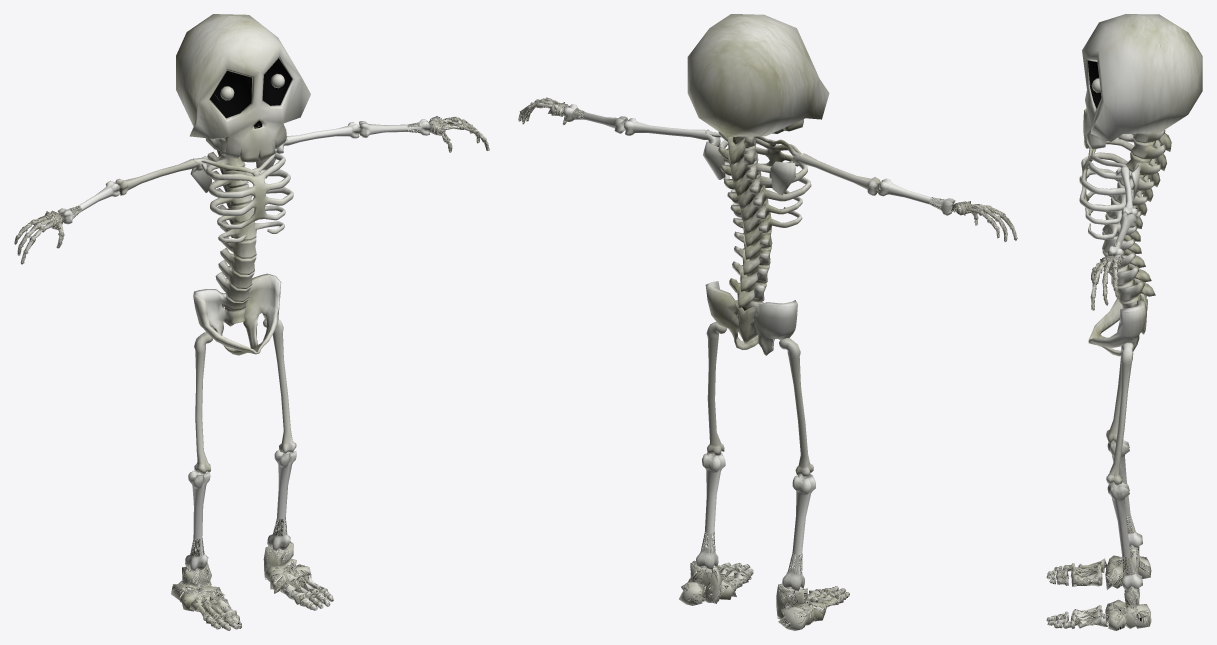
Rendered from SkeletonLP@Walking.fbx.
3 views of the same model, side by side, from view 1: azimuth 30°, elevation 25°; view 2: azimuth 150°, elevation 25°; view 3: azimuth 270°, elevation 25° (orthographic). The views are drawn at different scales.
Parts seen in each view (by area): view 1: SkeletonBody; view 2: SkeletonBody; view 3: SkeletonBody.
Boxes of the visible parts, box(x1,y1,x2,y2) form: SkeletonBody: box(14, 14, 489, 630); SkeletonBody: box(518, 14, 1017, 630); SkeletonBody: box(1046, 14, 1202, 630).
Bounding box in the file's own units: 62.54 × 73.02 × 17.64.
